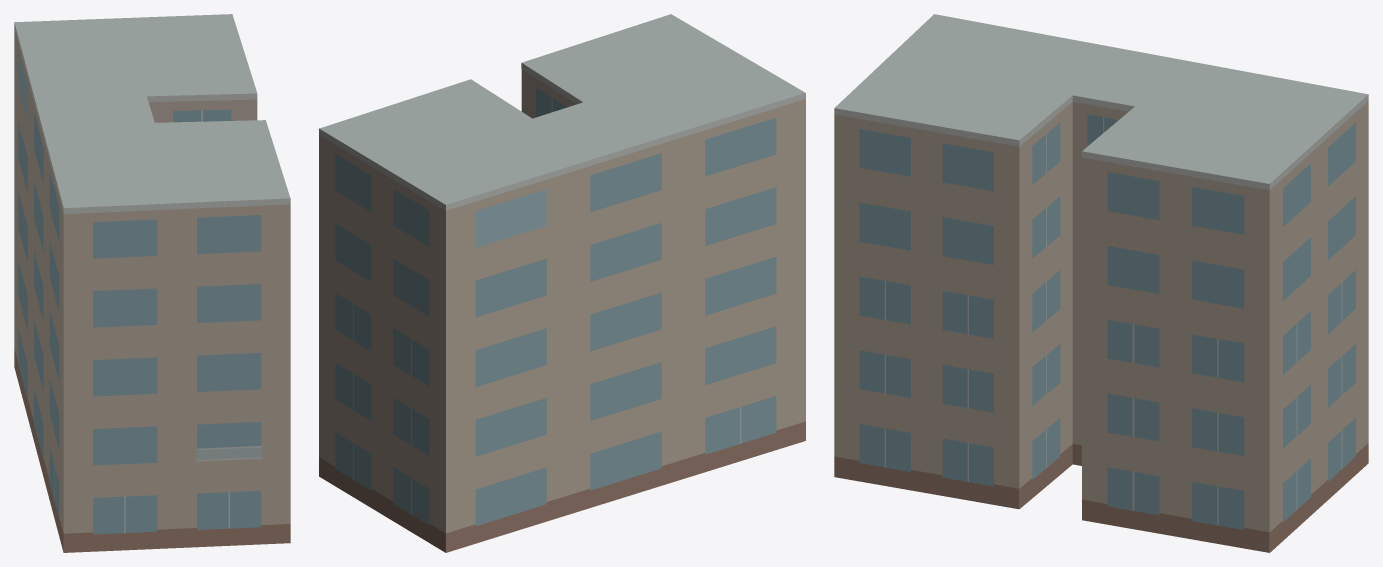
Rendered from survey-upis-33037162.glb.
The picture shows the model from 3 angles, left to right: view 1: azimuth 30°, elevation 25°; view 2: azimuth 150°, elevation 25°; view 3: azimuth 270°, elevation 25°; orthographic projection. The views are drawn at different scales.
Visible parts, largest first — view 1: survey-upis-33037162.tmp; view 2: survey-upis-33037162.tmp; view 3: survey-upis-33037162.tmp.
Part boxes in pixels (x1,y1,x2,y2): survey-upis-33037162.tmp: [14, 14, 290, 552]; survey-upis-33037162.tmp: [319, 14, 805, 552]; survey-upis-33037162.tmp: [834, 14, 1368, 552].
Bounding box in the file's own units: 13.94 × 14.1 × 18.52.
